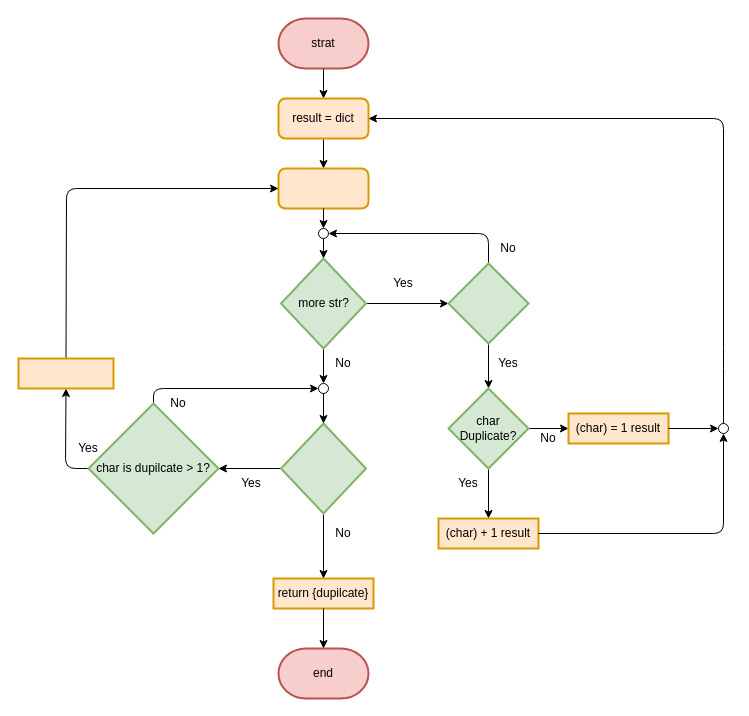
Some shapes in this 749 by 716 pixel diagram are drawn without their labels. Each missing label, with the centre of its shape:
"(char) = result" belongs at (65,373).
"dupicate = dict" belongs at (323,188).
"is lower?" belongs at (488,303).
"{result} more dict?" belongs at (323,468).
